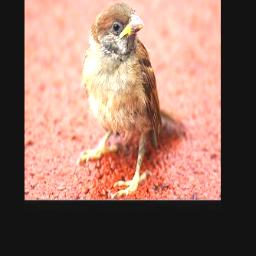Sparrow: (74, 0, 186, 197)
